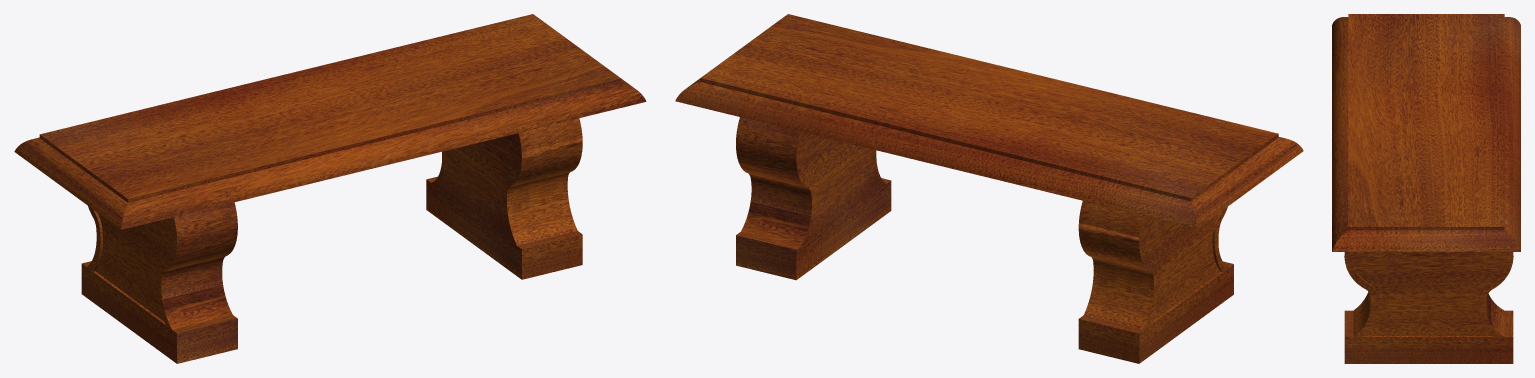
The picture shows the model from 3 angles, left to right: view 1: azimuth 30°, elevation 25°; view 2: azimuth 150°, elevation 25°; view 3: azimuth 270°, elevation 25°; orthographic projection. The views are drawn at different scales.
Parts seen in each view (by area): view 1: mesh1_mesh1-geometry, mesh6_mesh6-geometry, mesh3_mesh3-geometry; view 2: mesh1_mesh1-geometry, mesh6_mesh6-geometry, mesh3_mesh3-geometry; view 3: mesh1_mesh1-geometry, mesh3_mesh3-geometry.
Part boxes in pixels (box(x1,y1,x2,y2)): mesh1_mesh1-geometry: box(14, 14, 646, 229); mesh6_mesh6-geometry: box(81, 202, 237, 363); mesh3_mesh3-geometry: box(426, 118, 582, 279); mesh1_mesh1-geometry: box(675, 14, 1303, 228); mesh6_mesh6-geometry: box(1078, 201, 1233, 363); mesh3_mesh3-geometry: box(736, 117, 891, 280); mesh1_mesh1-geometry: box(1332, 14, 1520, 251); mesh3_mesh3-geometry: box(1344, 252, 1513, 363).
Size of the model in its own units: 0.9035 by 0.2873 by 0.3179.
